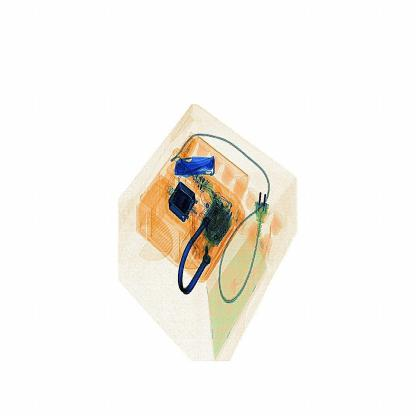knife: (172, 154, 219, 182)
